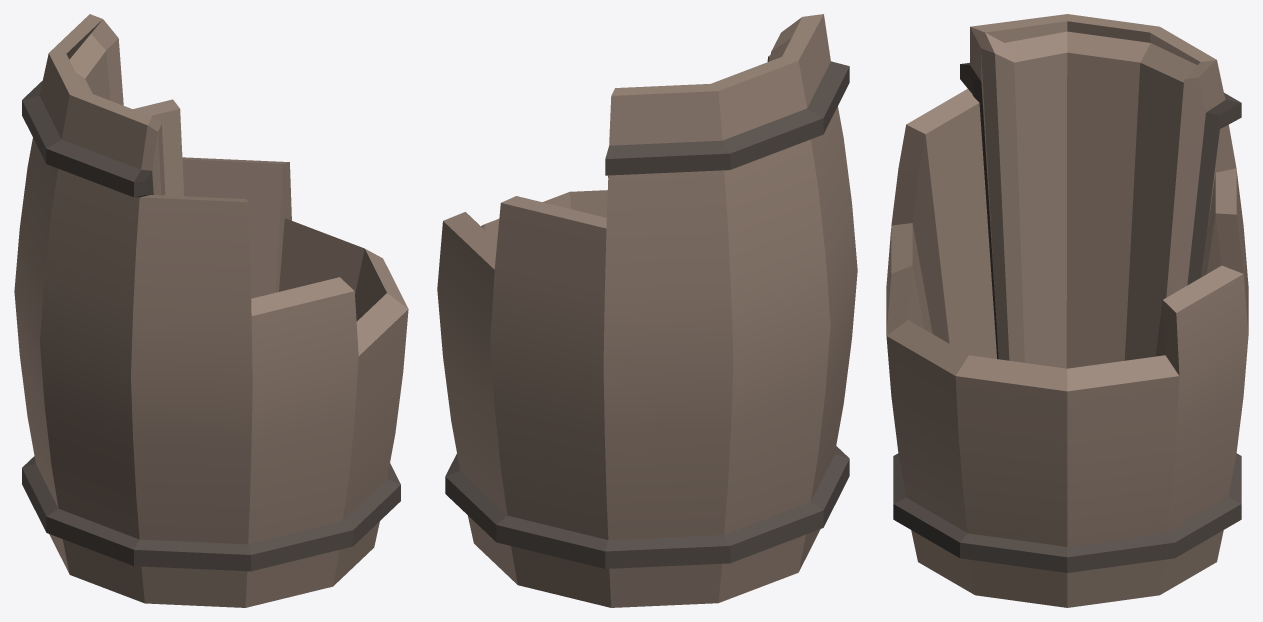
File: barrel_broken.fbx
The picture shows the model from 3 angles, left to right: view 1: azimuth 30°, elevation 25°; view 2: azimuth 150°, elevation 25°; view 3: azimuth 270°, elevation 25°; orthographic projection. The views are drawn at different scales.
Visible parts, largest first — view 1: pCylinder1; view 2: pCylinder1; view 3: pCylinder1.
Part boxes in pixels (x1=…): pCylinder1: x1=14, y1=14, x2=408, y2=607; pCylinder1: x1=437, y1=14, x2=857, y2=607; pCylinder1: x1=886, y1=14, x2=1248, y2=607.
Bounding box in the file's own units: 4.49 × 6 × 4.27.
